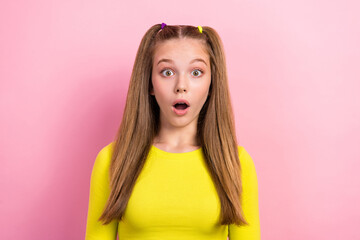teen: (130, 15, 230, 143)
